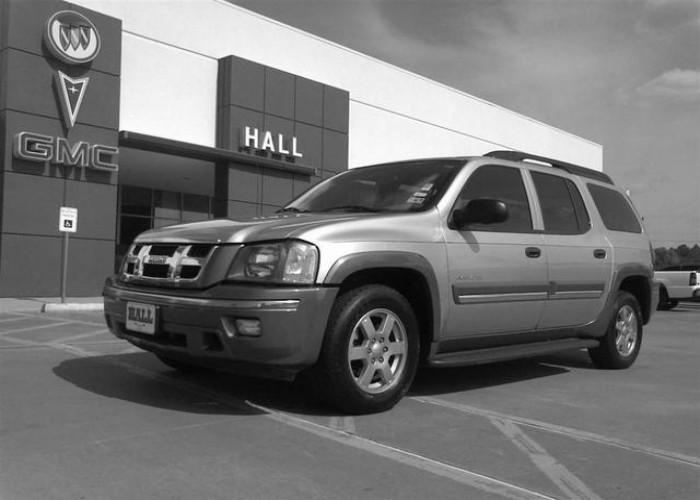car: (102, 150, 659, 414)
